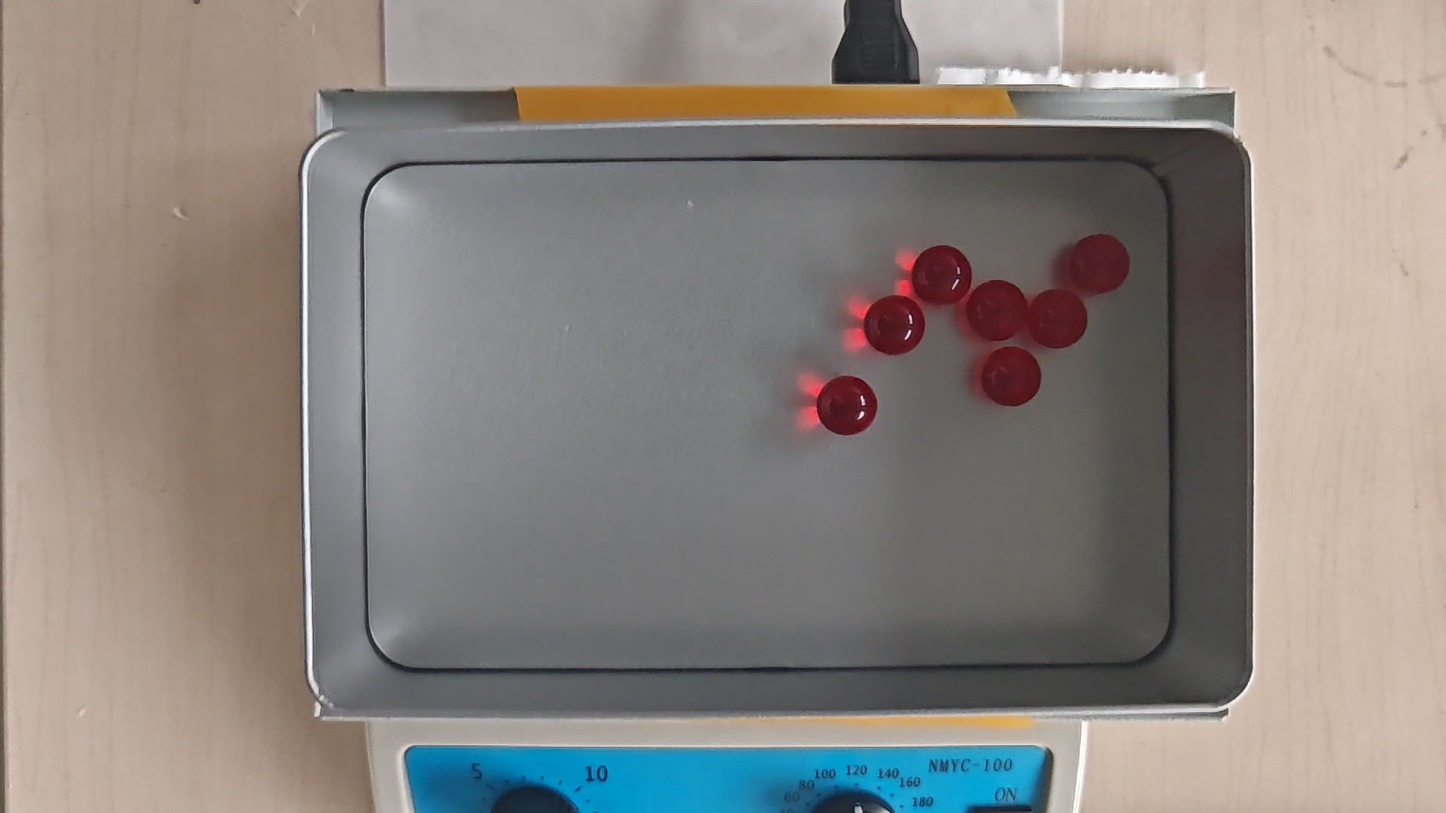ball: (967, 279, 1028, 342), (911, 244, 972, 305), (817, 375, 877, 437), (984, 346, 1042, 410), (1069, 234, 1130, 294), (865, 297, 926, 355), (1029, 289, 1087, 349)
container: (361, 158, 1173, 667)
